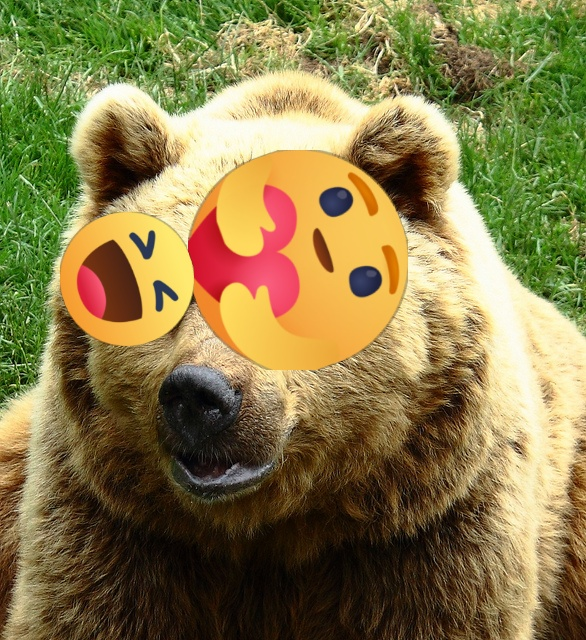care: (188, 150, 408, 370)
haha: (60, 212, 194, 346)
